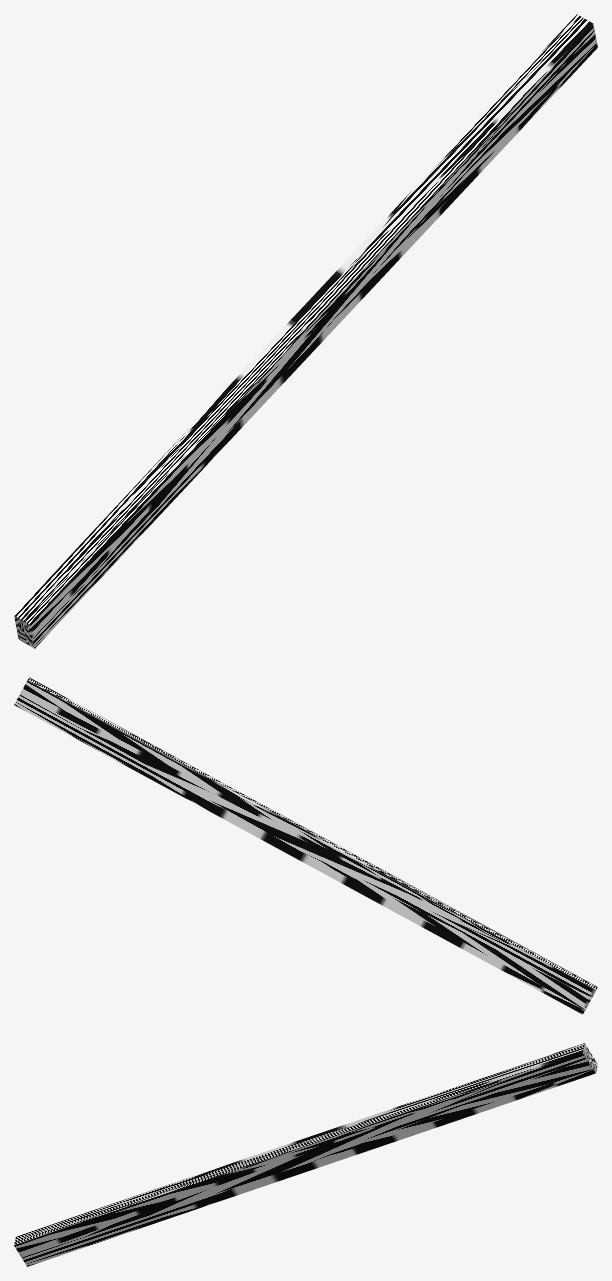
3 renders of one model, top to bottom at view 1: azimuth 30°, elevation 25°; view 2: azimuth 150°, elevation 25°; view 3: azimuth 330°, elevation 25°, orthographic. The views are drawn at different scales.
Visible parts, largest first — view 1: Cube.034; view 2: Cube.034; view 3: Cube.034.
Boxes of the visible parts, x1,y1,x2,y2 form: Cube.034: [14, 14, 597, 648]; Cube.034: [14, 677, 597, 1014]; Cube.034: [14, 1043, 597, 1266].
Bounding box in the file's own units: 11.34 × 6.02 × 3.71.
1 material, 1 textured.
